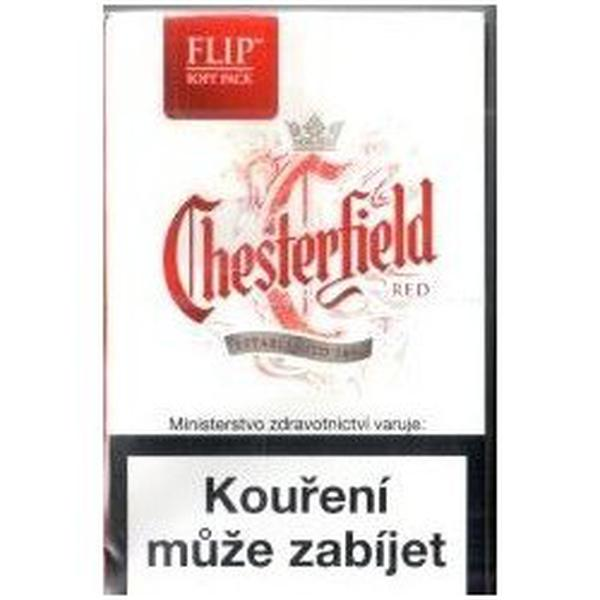chesterfield_red: (107, 12, 488, 594)
